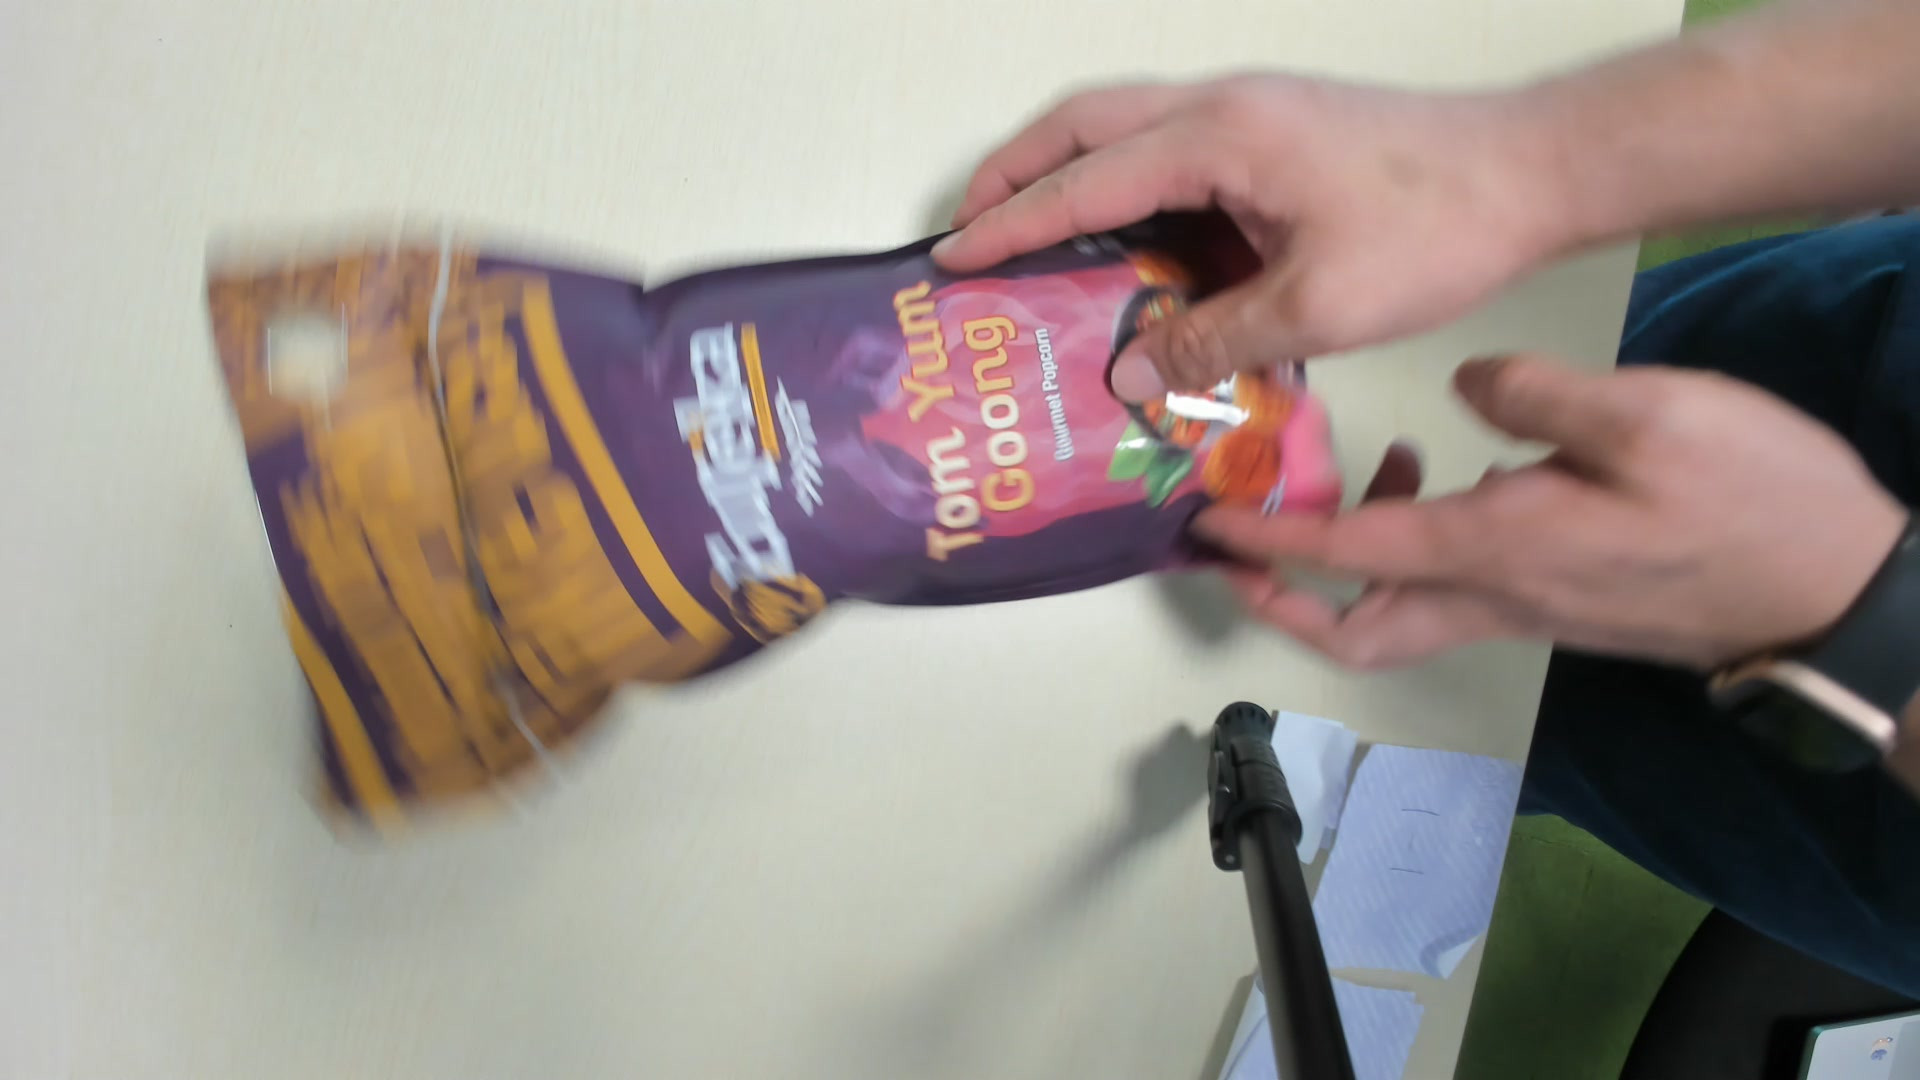PotatoChipsKeropok_100-199g_Halal_NonHealthy: (177, 232, 1342, 789)
